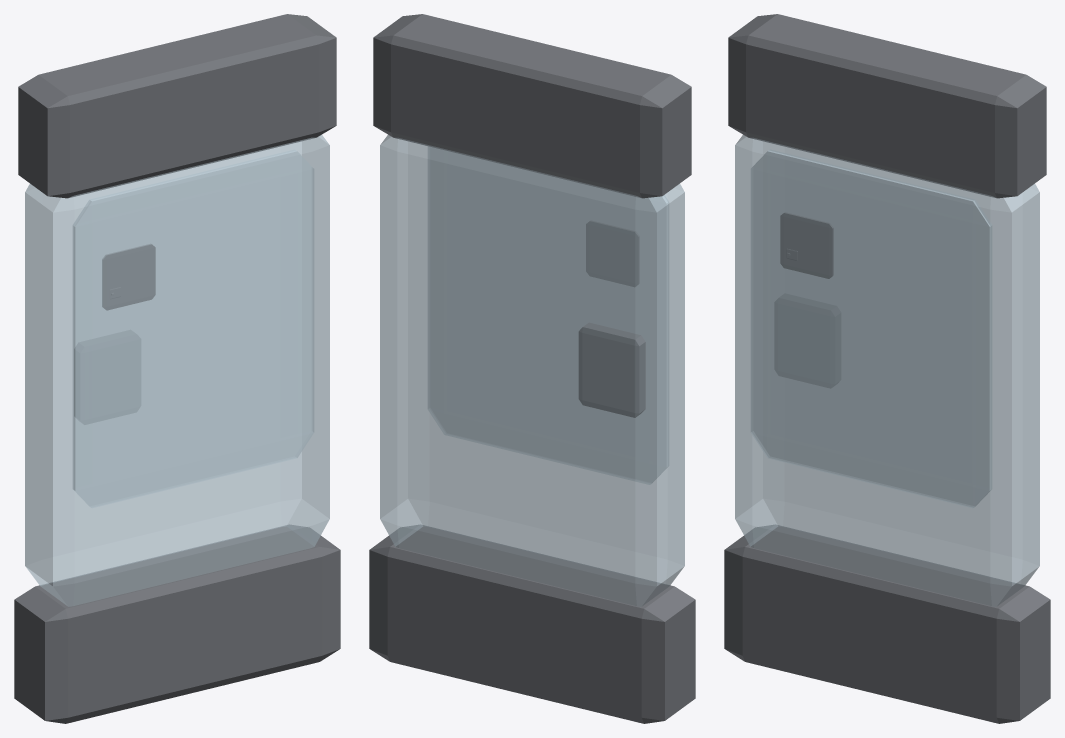
File: b12_commercial_glass_entry.glb
The picture shows the model from 3 angles, left to right: view 1: azimuth 30°, elevation 25°; view 2: azimuth 150°, elevation 25°; view 3: azimuth 330°, elevation 25°; orthographic projection.
Parts seen in each view (by area): view 1: b12_commercial_glass_entry; view 2: b12_commercial_glass_entry; view 3: b12_commercial_glass_entry.
Boxes of the visible parts, <box> form: b12_commercial_glass_entry: <box>14,14,340,723</box>; b12_commercial_glass_entry: <box>369,14,695,723</box>; b12_commercial_glass_entry: <box>724,14,1050,723</box>.
Bounding box in the file's own units: 1.15 × 2.33 × 0.24.
